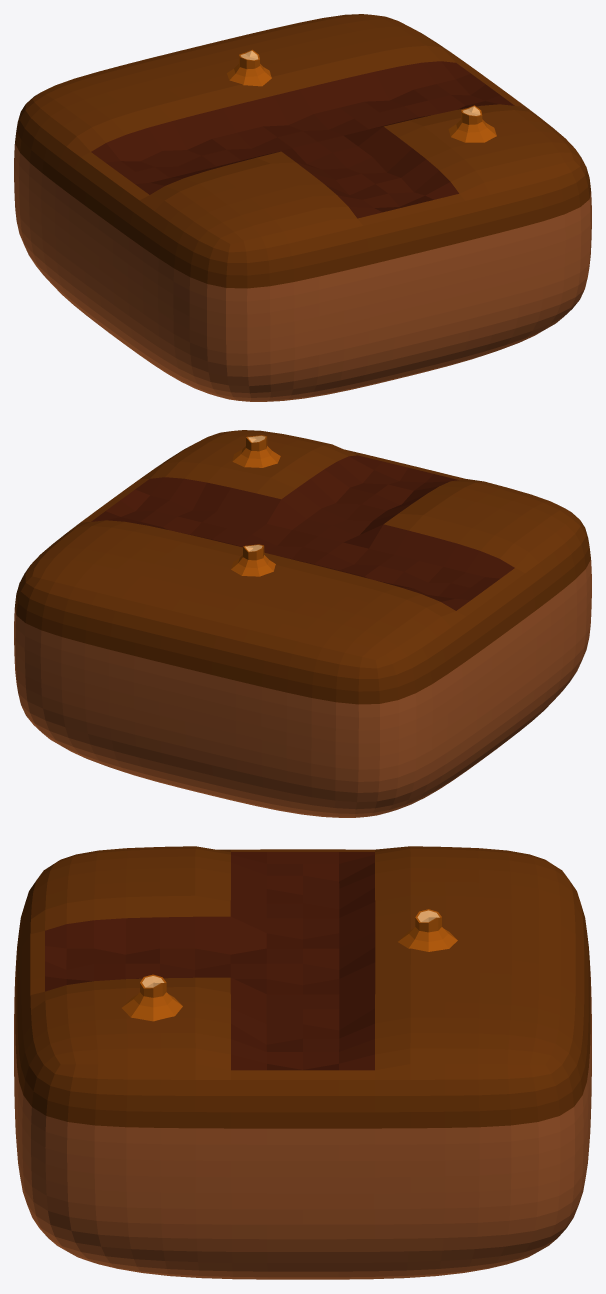
Rendered from platformTripleTerre.fbx.
3 views of the same model, one above another, from view 1: azimuth 30°, elevation 25°; view 2: azimuth 150°, elevation 25°; view 3: azimuth 270°, elevation 25° (orthographic). The views are drawn at different scales.
Parts seen in each view (by area): view 1: terre triple; view 2: terre triple; view 3: terre triple.
Part boxes in pixels (bbox=[...]): terre triple: bbox=[14, 14, 591, 401]; terre triple: bbox=[14, 430, 591, 817]; terre triple: bbox=[14, 846, 591, 1279].
Size of the model in its own units: 200 by 109 by 200.
